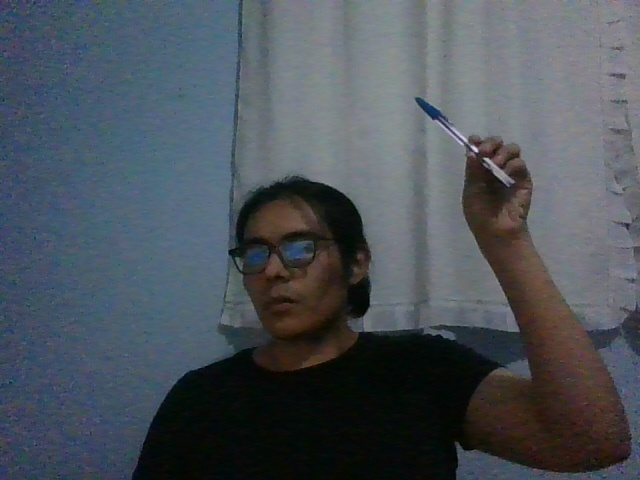pluma: (413, 96, 517, 189)
